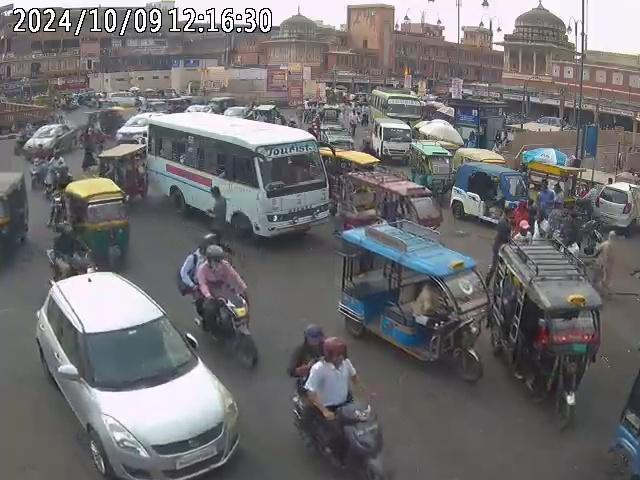auto: (334, 220, 490, 375), (485, 235, 603, 428), (49, 177, 132, 271), (447, 148, 526, 223), (0, 169, 29, 268)
bus: (144, 111, 332, 243), (371, 87, 419, 141), (370, 117, 414, 165)
car: (33, 267, 241, 478), (18, 123, 77, 162)
helmet: (322, 338, 349, 362), (204, 244, 227, 270), (304, 325, 324, 351)
license_plate: (176, 443, 221, 469)
motorbike-rider: (176, 242, 255, 363)
scooty-rider: (286, 328, 385, 476), (32, 154, 71, 199)
